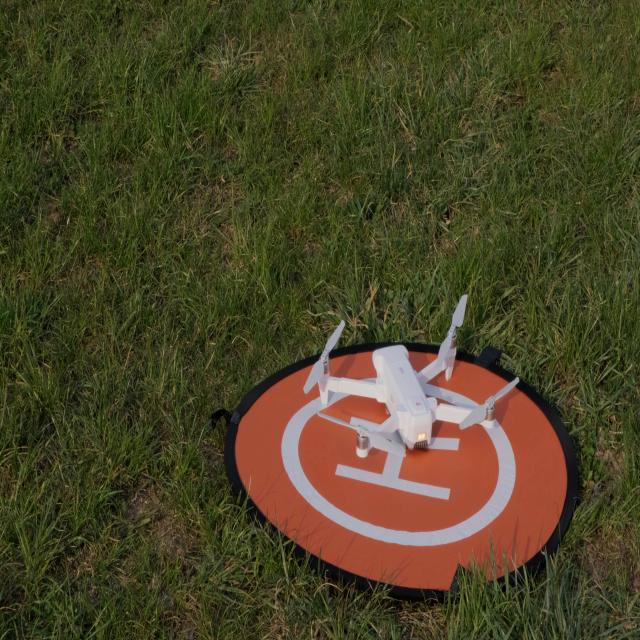drone: (303, 293, 520, 461)
